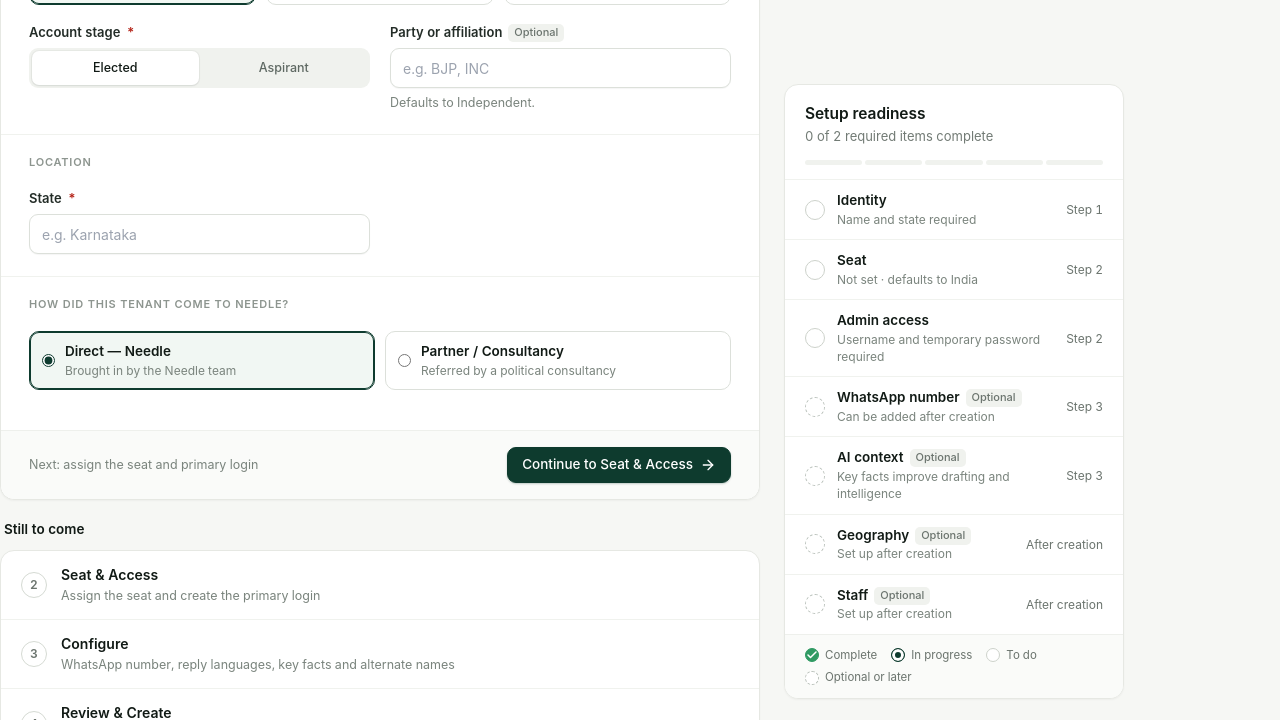
Test case: onboarding: acquisition source › blocks partner onboarding when the partner list cannot be loaded, and recovers on retry
(page scrolled)
Click the radio button labelled "Partner / Consultancy Referred by a political consultancy" at (404, 360), box left=398, top=354, right=411, bottom=367
(page scrolled)
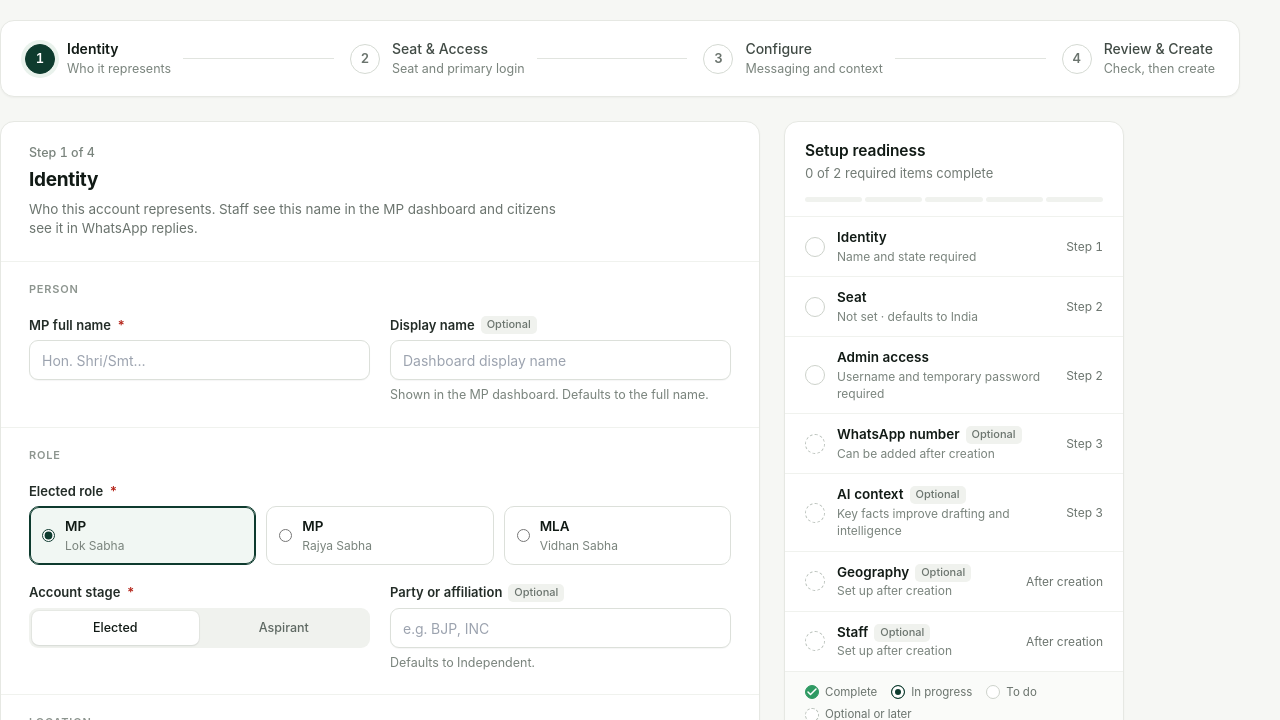
Type "Asha Patil" into the field labelled "MP full name" at (200, 360), box left=29, top=340, right=370, bottom=380
(page scrolled)
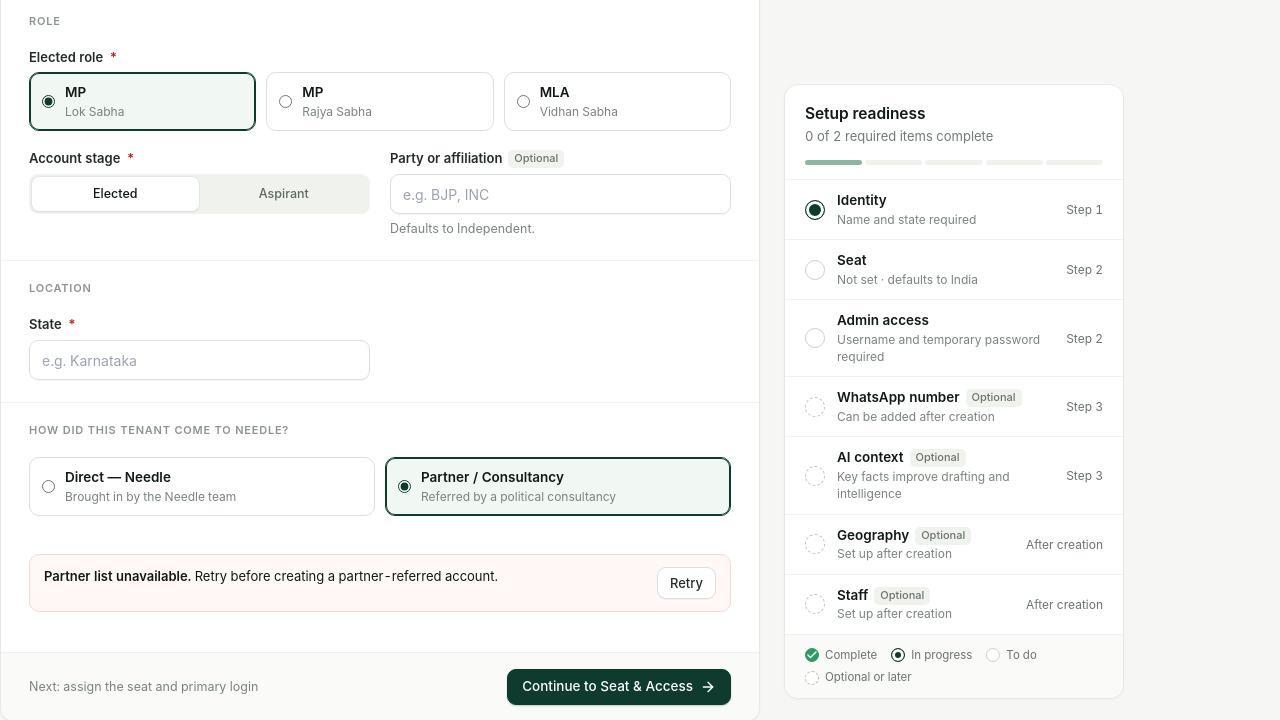
Type "Karnataka" into the field labelled "State" at (200, 360), box left=29, top=340, right=370, bottom=380
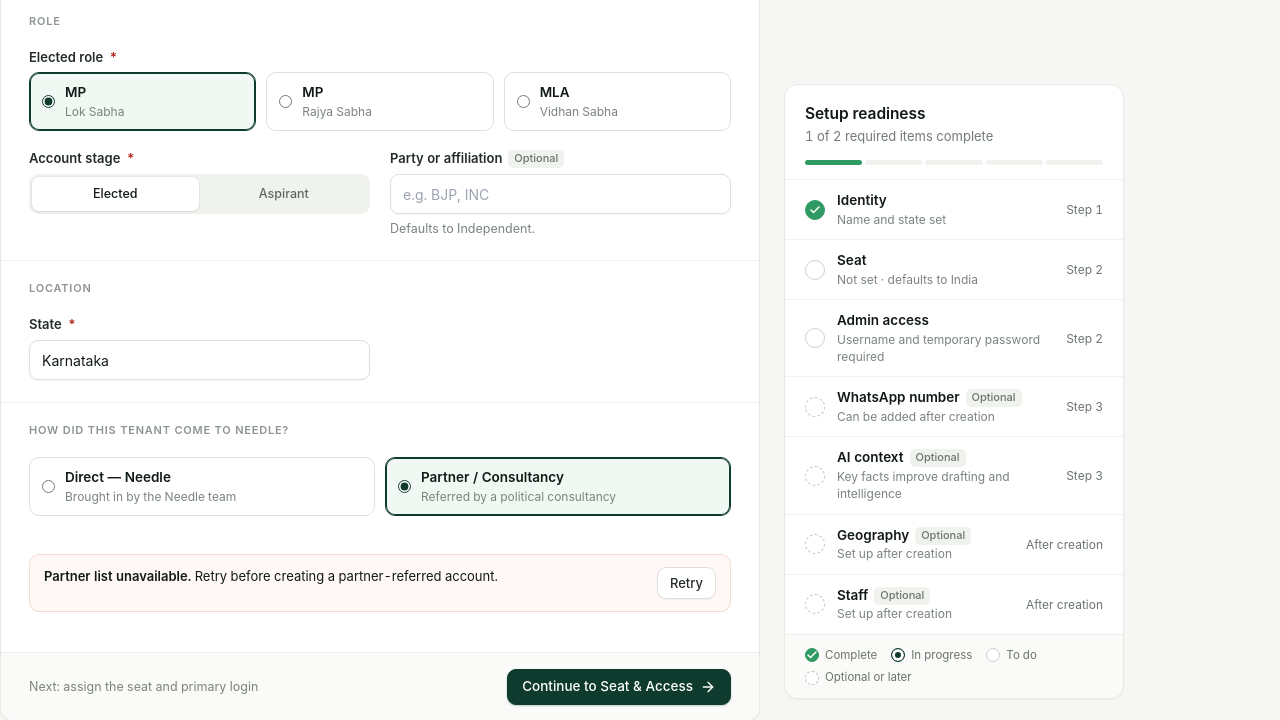
Click the button "Continue to Seat & Access" at (619, 687), box left=507, top=669, right=731, bottom=705
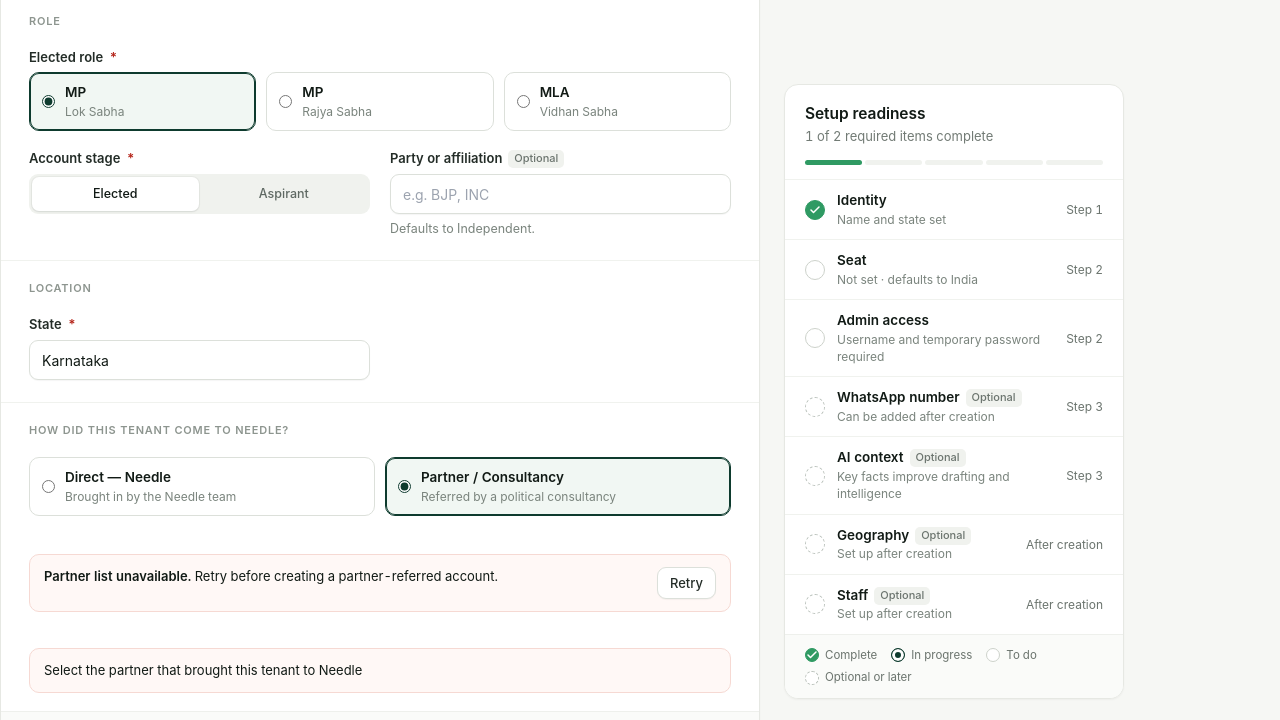
Click the button "Retry" at (686, 583), box left=657, top=567, right=716, bottom=599
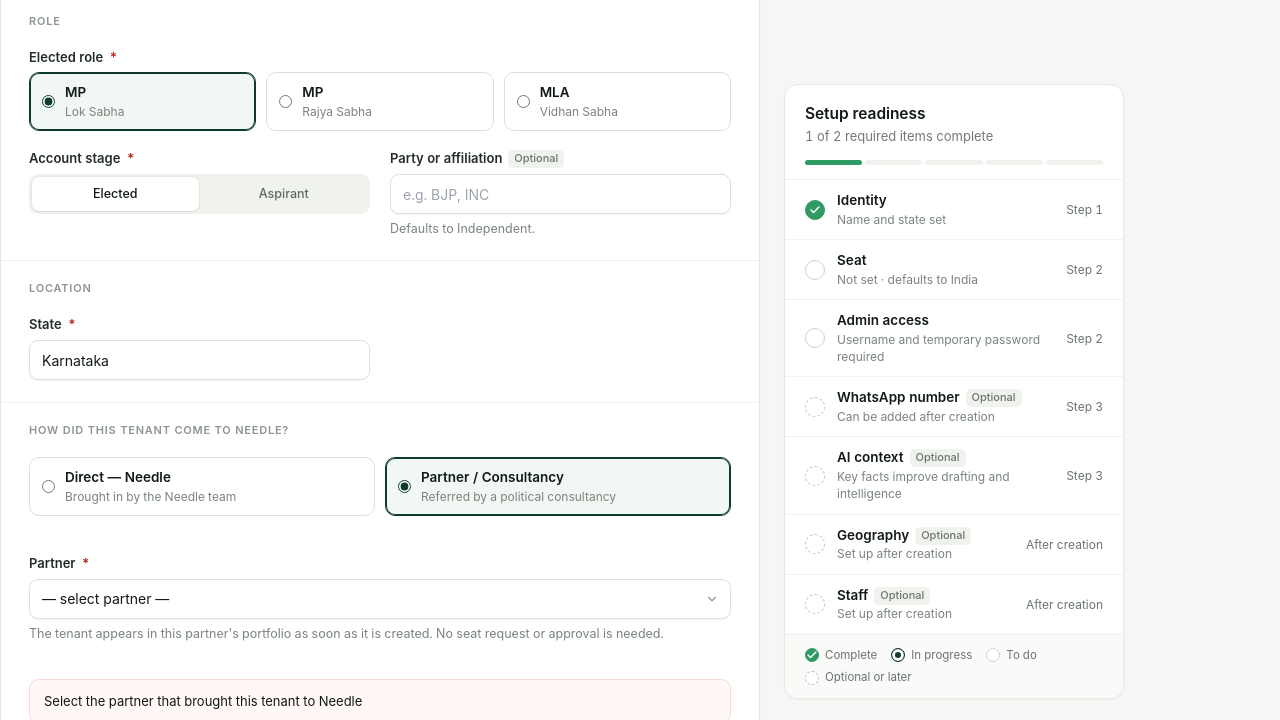
expect the dropdown labelled "Partner *" is shown: met, box left=29, top=579, right=731, bottom=619
